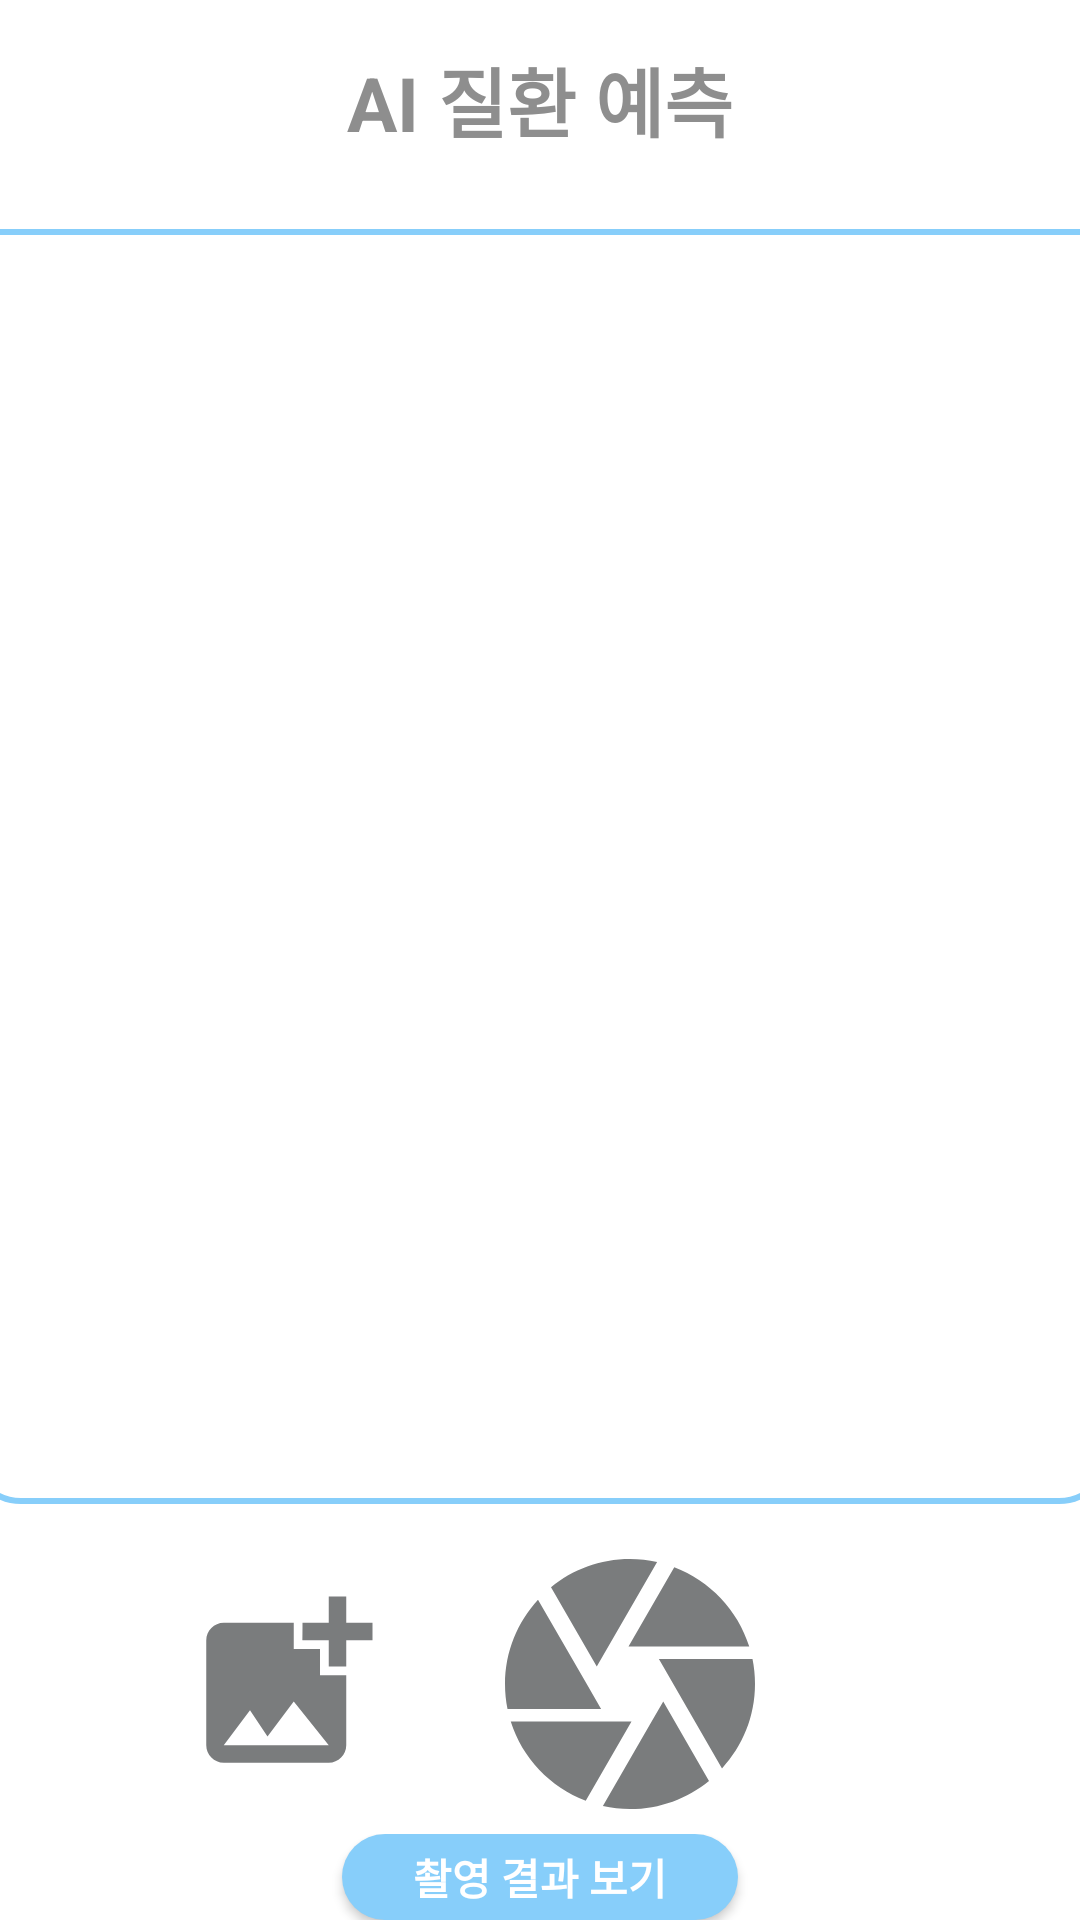

Where icons sit on this 1080x1920 app screen, as (x1, y1, x2, y2):
add photo album: (206, 1596, 373, 1763)
camera: (505, 1559, 755, 1809)
